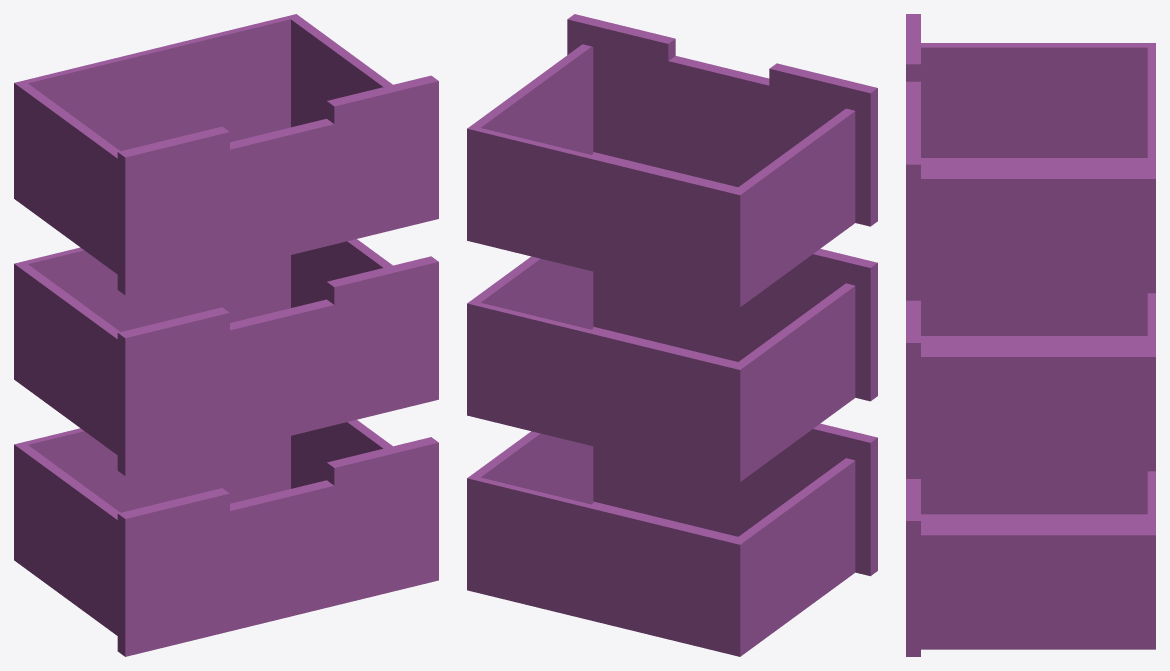
The model's file is Cajones_3.fbx.
3 views of the same model, side by side, from view 1: azimuth 30°, elevation 25°; view 2: azimuth 150°, elevation 25°; view 3: azimuth 270°, elevation 25° (orthographic). The views are drawn at different scales.
Visible parts, largest first — view 1: Cajones.002; view 2: Cajones.002; view 3: Cajones.002.
Part boxes in pixels (x1,y1,x2,y2): Cajones.002: (14,14,438,656); Cajones.002: (467,14,877,656); Cajones.002: (906,14,1155,656).
Size of the model in its own units: 0.2743 by 0.4174 by 0.1921.
